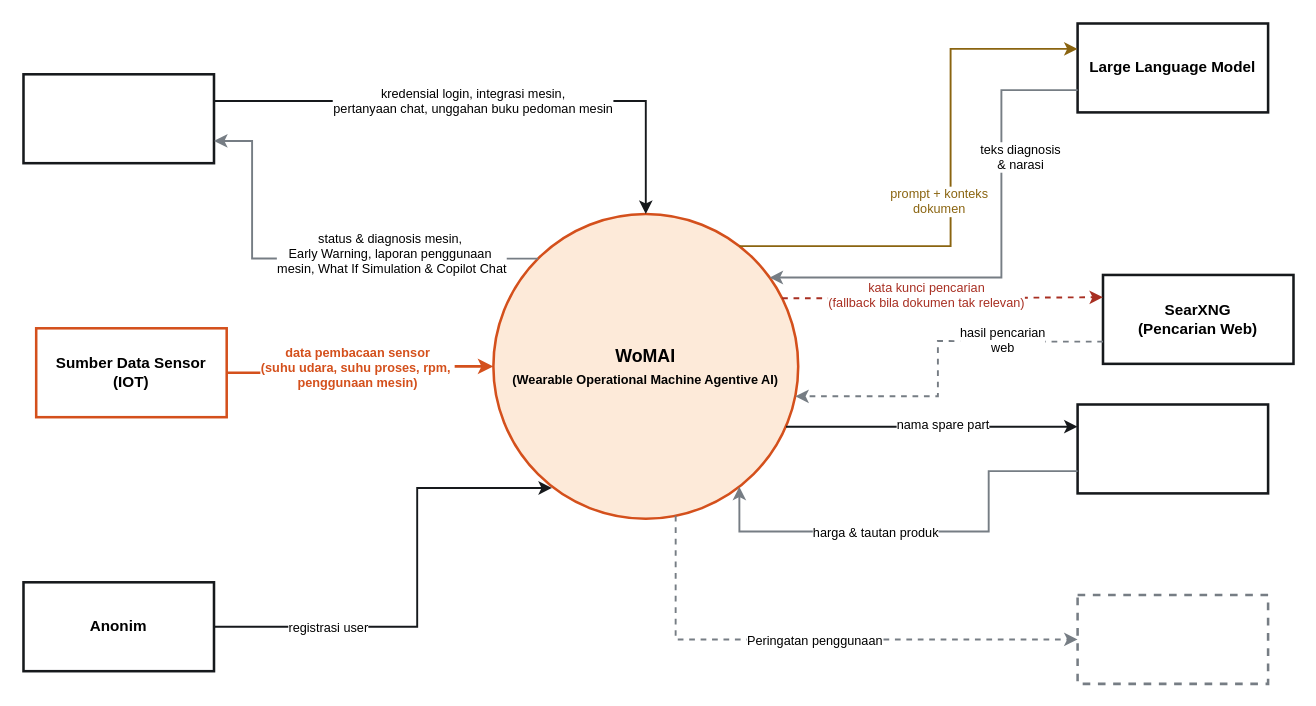
Image size: 1316x706. Some labels were removed from this diagram. Here are the shapes that lost their labels. From the top down, the box of each, then its label:
(22, 72, 215, 164): Teknisi / Engineer
(1076, 403, 1269, 494): Alibaba (Marketplace)
(1076, 593, 1269, 685): Telegram (Notifikasi)
